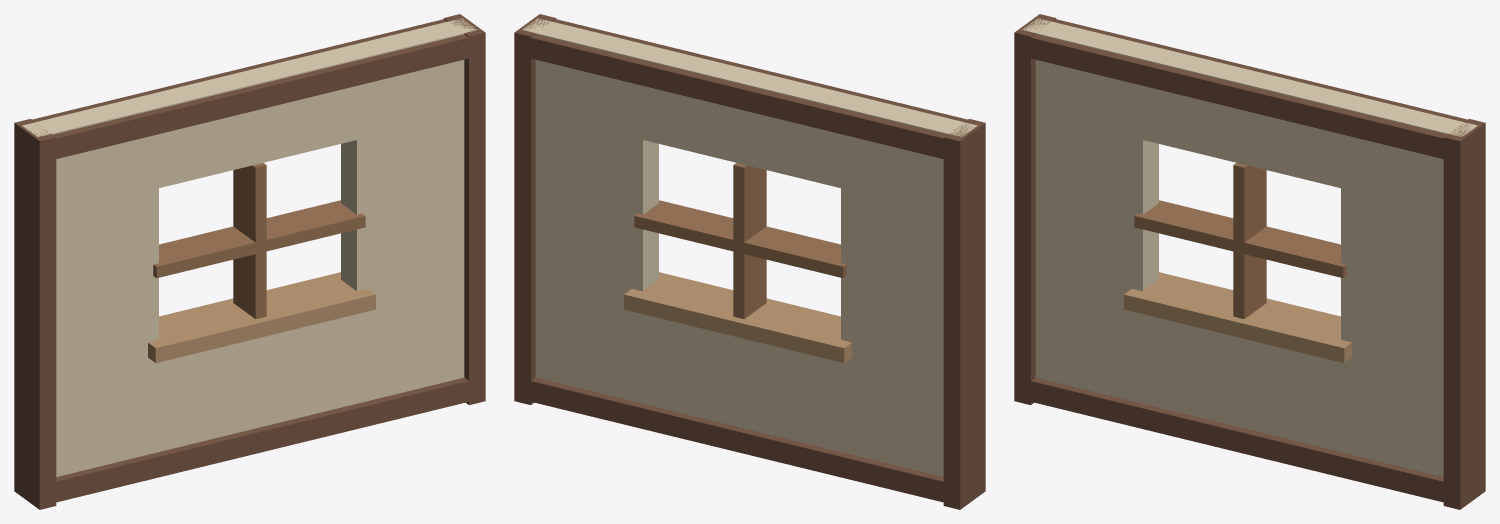
Rendered from tavern_wall_window.glb.
The picture shows the model from 3 angles, left to right: view 1: azimuth 30°, elevation 25°; view 2: azimuth 150°, elevation 25°; view 3: azimuth 330°, elevation 25°; orthographic projection.
Parts seen in each view (by area): view 1: tavern_wall_window_Mesh; view 2: tavern_wall_window_Mesh; view 3: tavern_wall_window_Mesh.
Part boxes in pixels (box(x1,y1,x2,y2)): tavern_wall_window_Mesh: box(14, 14, 485, 509); tavern_wall_window_Mesh: box(514, 14, 985, 509); tavern_wall_window_Mesh: box(1014, 14, 1485, 509).
Size of the model in its own units: 4.05 by 3.2 by 0.5.
